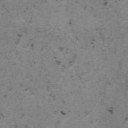oxide scale of temperature system: (66, 0, 122, 72), (15, 28, 82, 80), (55, 110, 66, 128), (108, 107, 114, 114), (24, 87, 32, 92), (50, 94, 56, 100), (84, 111, 90, 115), (8, 86, 12, 91)
